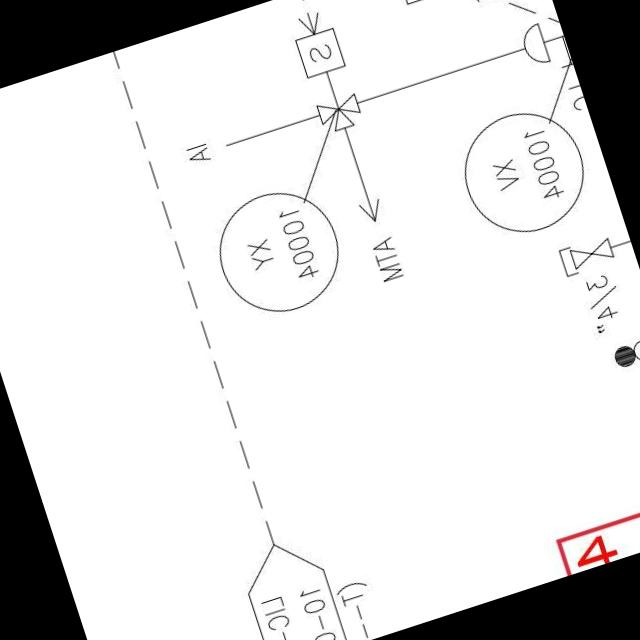3W: (306, 86, 372, 140)
EC: (552, 228, 630, 282)
GV: (565, 235, 617, 271)
